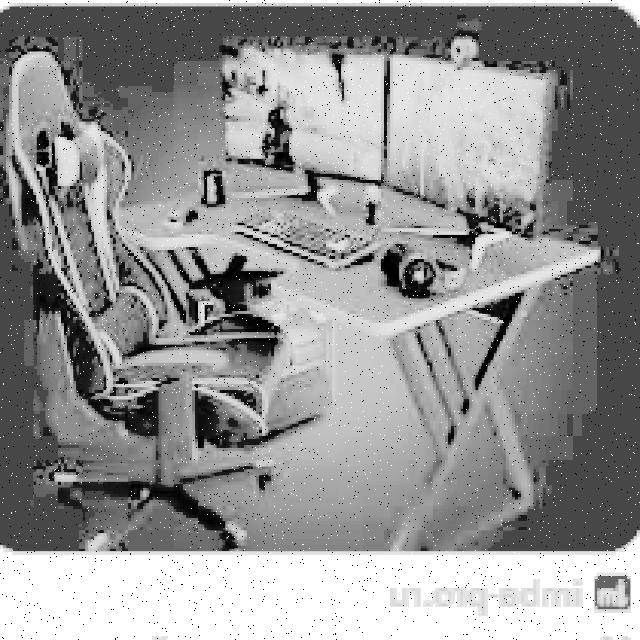table: (116, 174, 603, 548)
